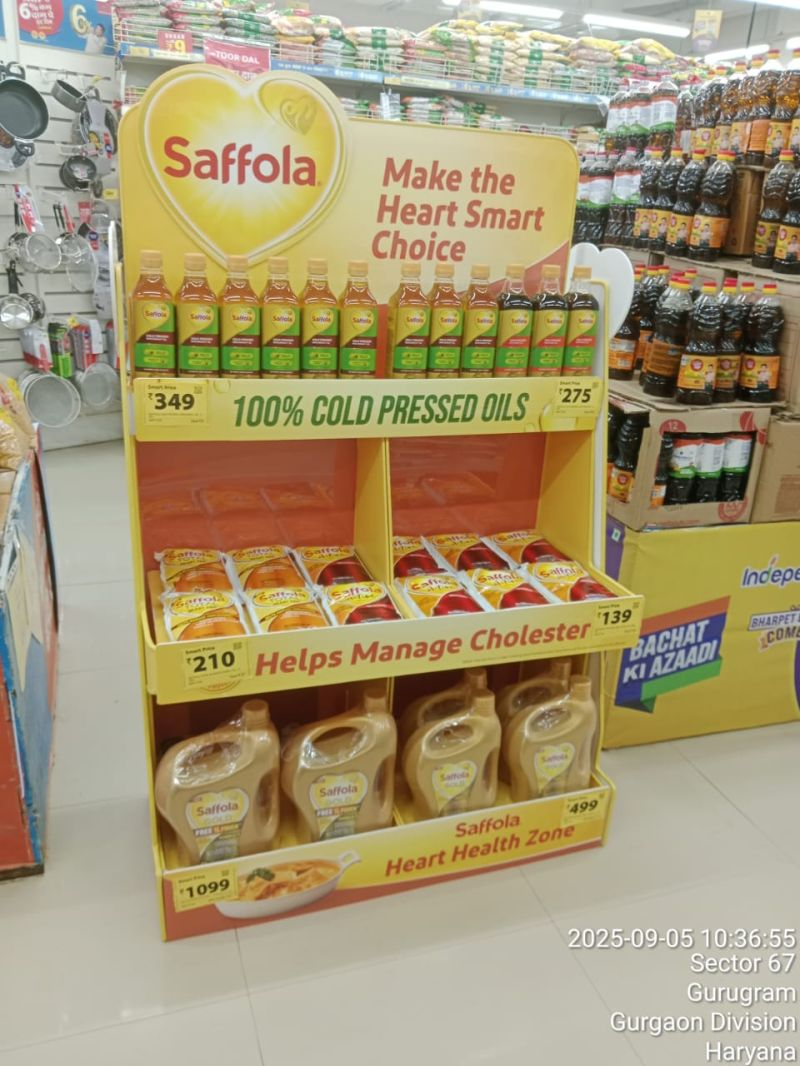saffola: (94, 34, 666, 938)
